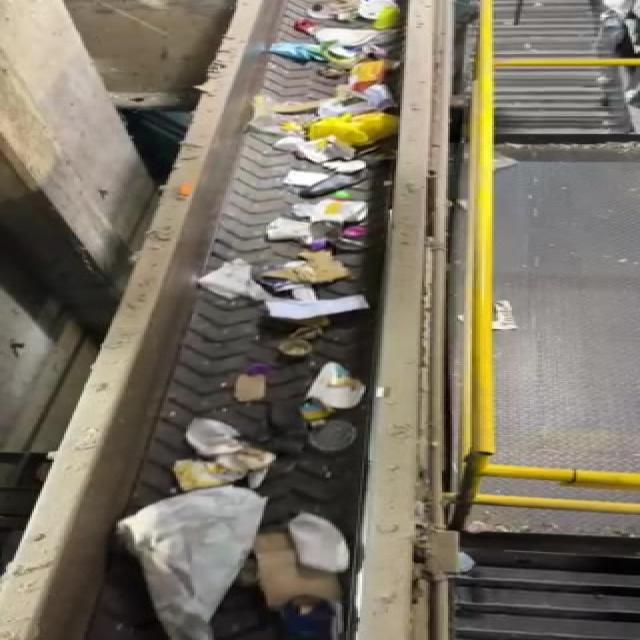metal: (0, 0, 638, 639)
paper: (106, 459, 252, 623), (268, 510, 357, 574), (304, 355, 374, 407), (233, 359, 265, 396)
pp: (158, 402, 247, 451), (298, 410, 381, 457)
